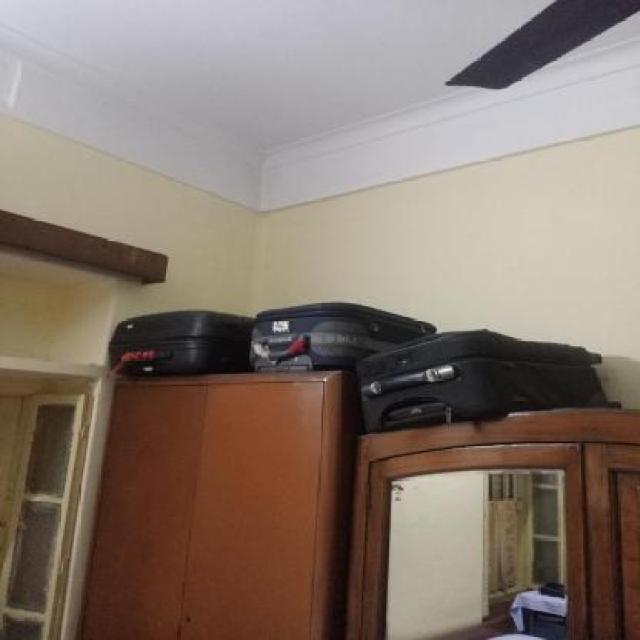backpack: (352, 326, 611, 436), (103, 309, 249, 380)
